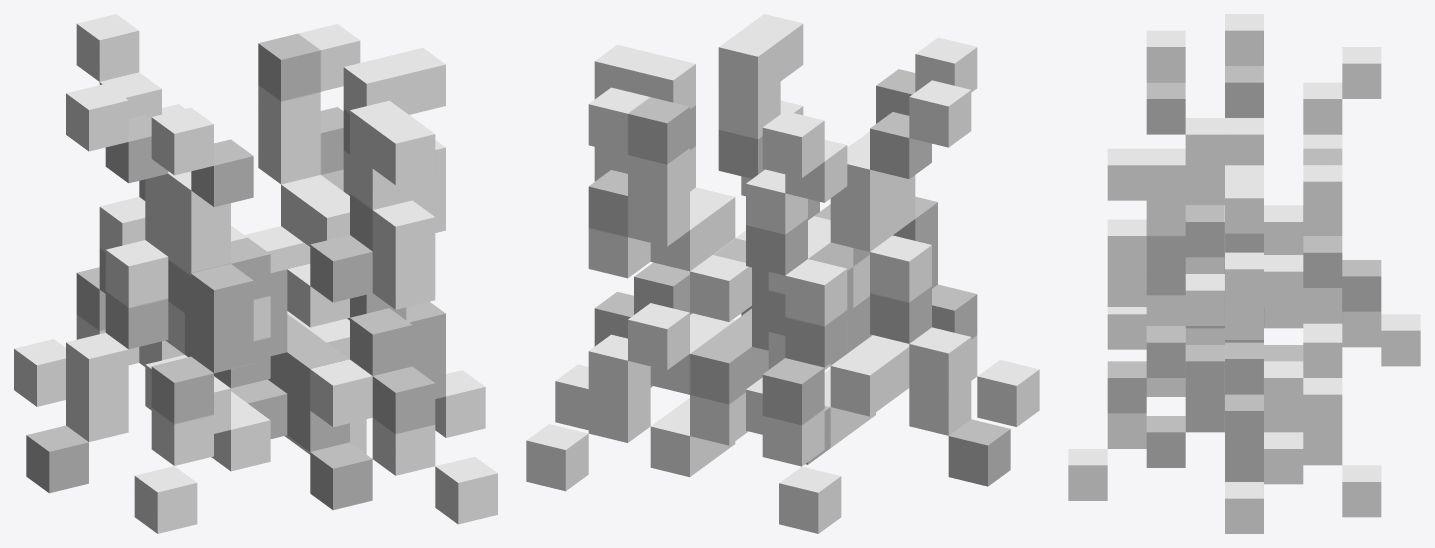
Rendered from Web_1.obj.
The picture shows the model from 3 angles, left to right: view 1: azimuth 30°, elevation 25°; view 2: azimuth 150°, elevation 25°; view 3: azimuth 270°, elevation 25°; orthographic projection. The views are drawn at different scales.
Parts seen in each view (by area): view 1: Web_1_Web_1.001; view 2: Web_1_Web_1.001; view 3: Web_1_Web_1.001.
Part boxes in pixels (x1,y1,x2,y2): Web_1_Web_1.001: (14,14,497,533); Web_1_Web_1.001: (526,14,1039,533); Web_1_Web_1.001: (1068,14,1420,533).
Bounding box in the file's own units: 1.1 × 1 × 0.9.
Materials: 1 (1 with a texture image).
